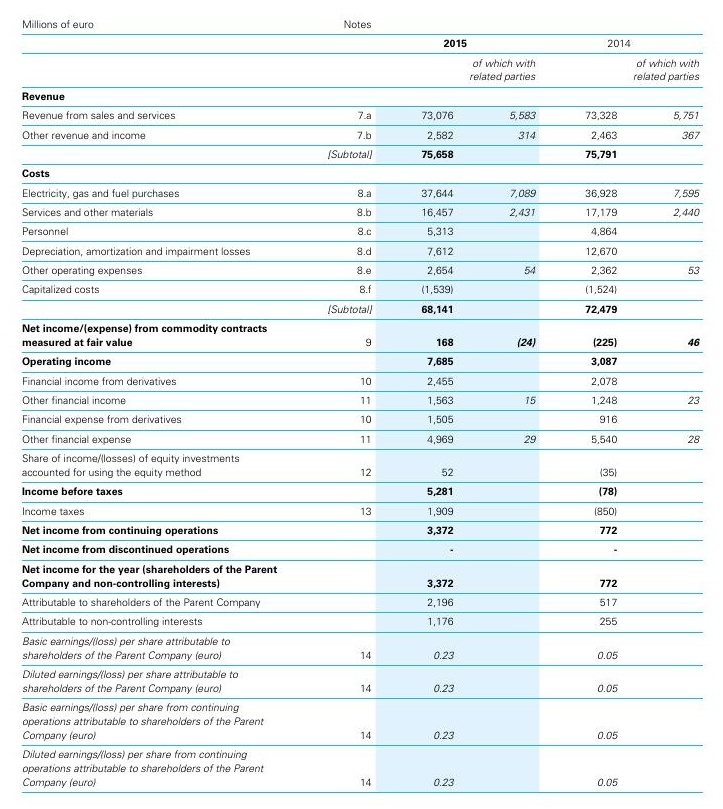table: (0, 0, 723, 809)
